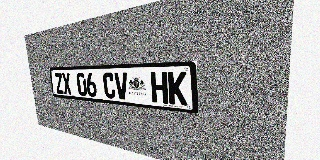0: (76, 73, 87, 96)
6: (85, 73, 97, 97)
C: (102, 72, 116, 99)
H: (150, 72, 168, 104)
K: (168, 71, 187, 106)
V: (114, 72, 129, 100)
X: (62, 73, 72, 95)
Z: (54, 73, 64, 94)
